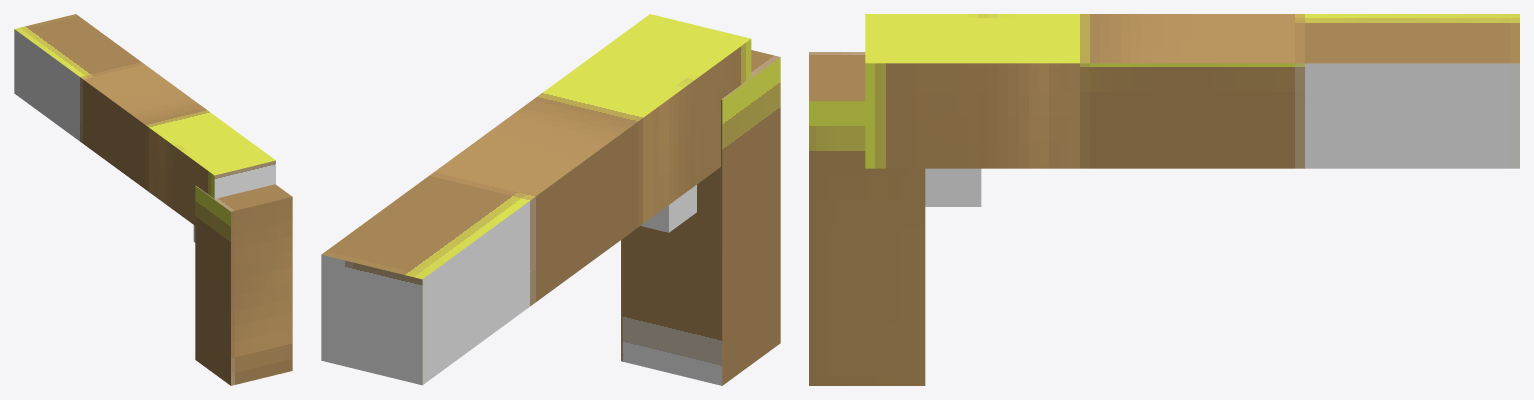
The model's file is gun.obj.
The picture shows the model from 3 angles, left to right: view 1: azimuth 30°, elevation 25°; view 2: azimuth 150°, elevation 25°; view 3: azimuth 270°, elevation 25°; orthographic projection. The views are drawn at different scales.
Parts seen in each view (by area): view 1: Cube.001; view 2: Cube.001; view 3: Cube.001.
Part boxes in pixels (x1,y1,x2,y2): Cube.001: (14, 14, 292, 385); Cube.001: (321, 14, 780, 385); Cube.001: (809, 14, 1519, 385).
Bounding box in the file's own units: 0.2023 × 0.6131 × 1.22.
